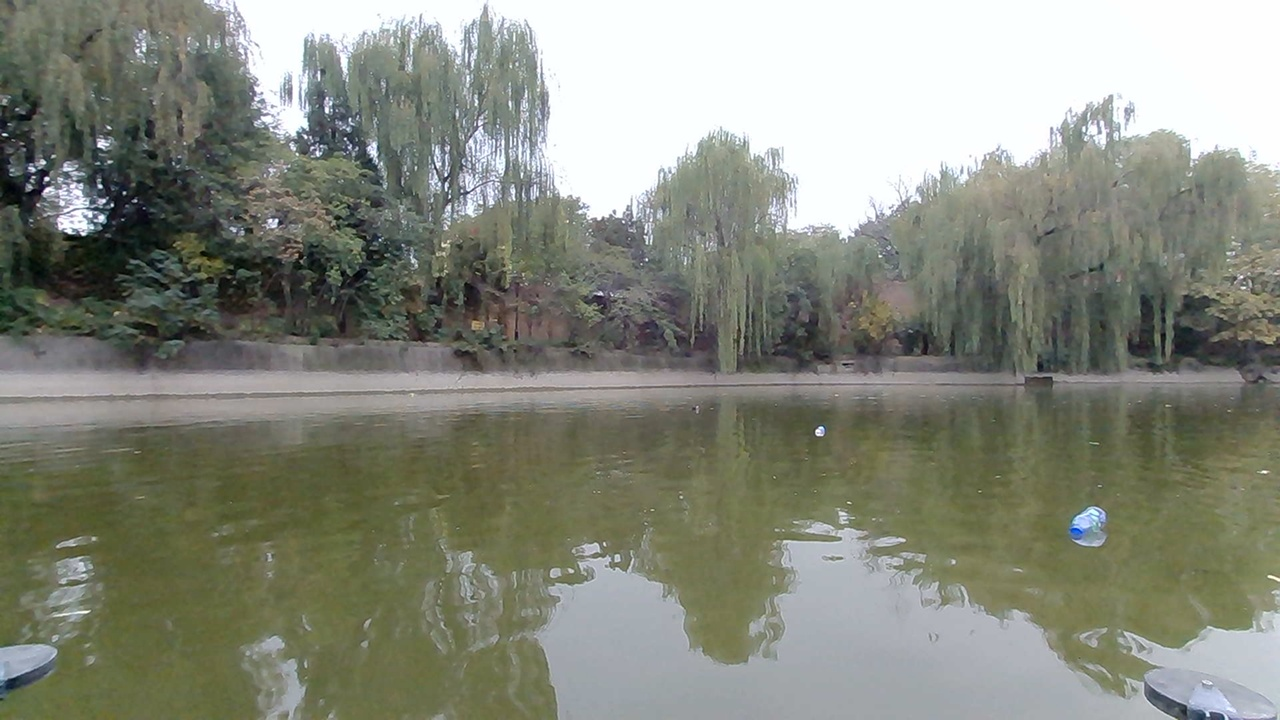bottle: (1058, 500, 1116, 550), (798, 410, 837, 439), (677, 398, 705, 424)
